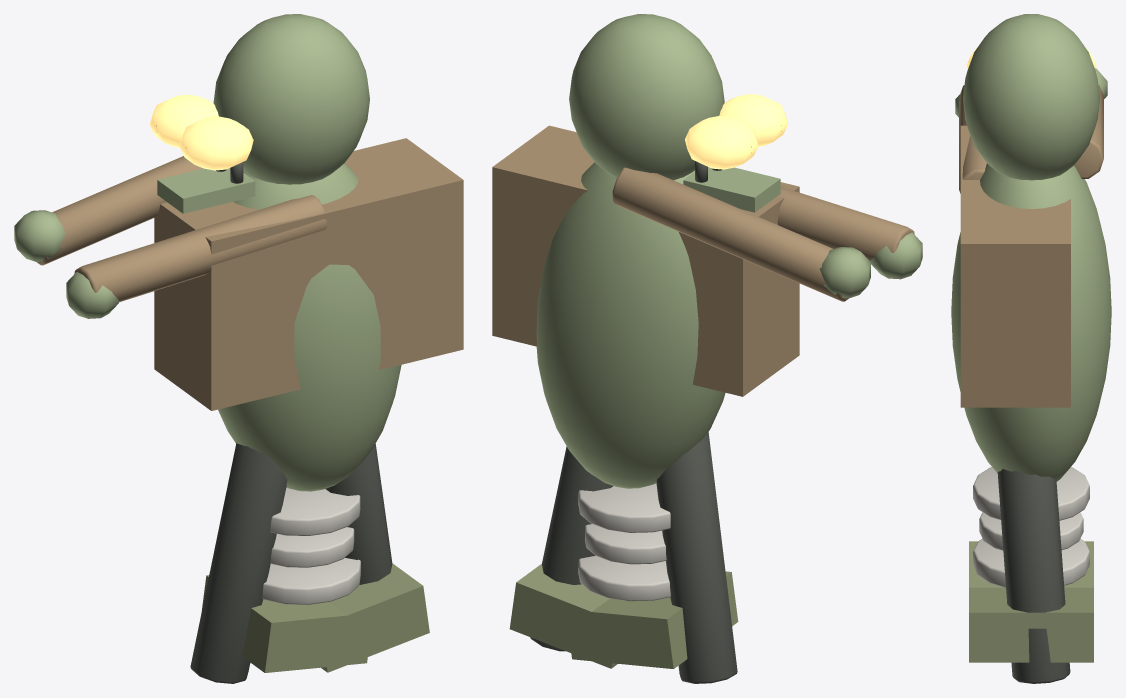
The model's file is jumper.glb.
3 renders of one model, left to right at view 1: azimuth 30°, elevation 25°; view 2: azimuth 150°, elevation 25°; view 3: azimuth 270°, elevation 25°, orthographic. The views are drawn at different scales.
Visible parts, largest first — view 1: chest, torso, head, leg, arm.001, spring_boot_0, arm, spring_boot_1, leg.001, spring_1, spring_3, eye.001 (+5 smaller); view 2: torso, chest, head, leg, arm, spring_boot_0, arm.001, spring_boot_1, leg.001, spring_3, spring_1, eye (+5 smaller); view 3: chest, torso, head, leg.001, spring_boot_1, spring_3, spring_1, spring_2, arm, arm.001, spring_boot_0.
Part boxes in pixels (box(x1,y1,x2,y2)): chest: box(154, 138, 463, 410); torso: box(218, 163, 401, 491); head: box(213, 14, 369, 184); leg: box(190, 442, 287, 683); arm.001: box(74, 195, 327, 302); spring_boot_0: box(202, 575, 373, 672); arm: box(36, 156, 203, 265); spring_boot_1: box(321, 563, 429, 672); leg.001: box(325, 444, 392, 584); spring_1: box(262, 558, 360, 604); spring_3: box(270, 487, 360, 535); eye.001: box(179, 116, 253, 170); torso: box(536, 162, 725, 488); chest: box(492, 125, 799, 396); head: box(569, 14, 724, 180); leg: box(656, 432, 737, 683); arm: box(612, 167, 848, 301); spring_boot_0: box(565, 571, 738, 668); arm.001: box(777, 187, 914, 260); spring_boot_1: box(509, 564, 617, 668); leg.001: box(530, 446, 612, 651); spring_3: box(578, 483, 670, 532); spring_1: box(578, 556, 670, 601); eye: box(685, 115, 758, 169); chest: box(960, 125, 1070, 407); torso: box(951, 163, 1111, 481); head: box(963, 14, 1099, 180); leg.001: box(997, 469, 1070, 683); spring_boot_1: box(969, 587, 1093, 662); spring_3: box(973, 467, 1089, 520); spring_1: box(973, 538, 1089, 587); spring_2: box(979, 512, 1083, 550); arm: box(1074, 85, 1103, 178); arm.001: box(959, 85, 986, 193); spring_boot_0: box(969, 541, 1093, 587).
Size of the model in its own units: 0.8182 by 1.31 by 0.3076.
